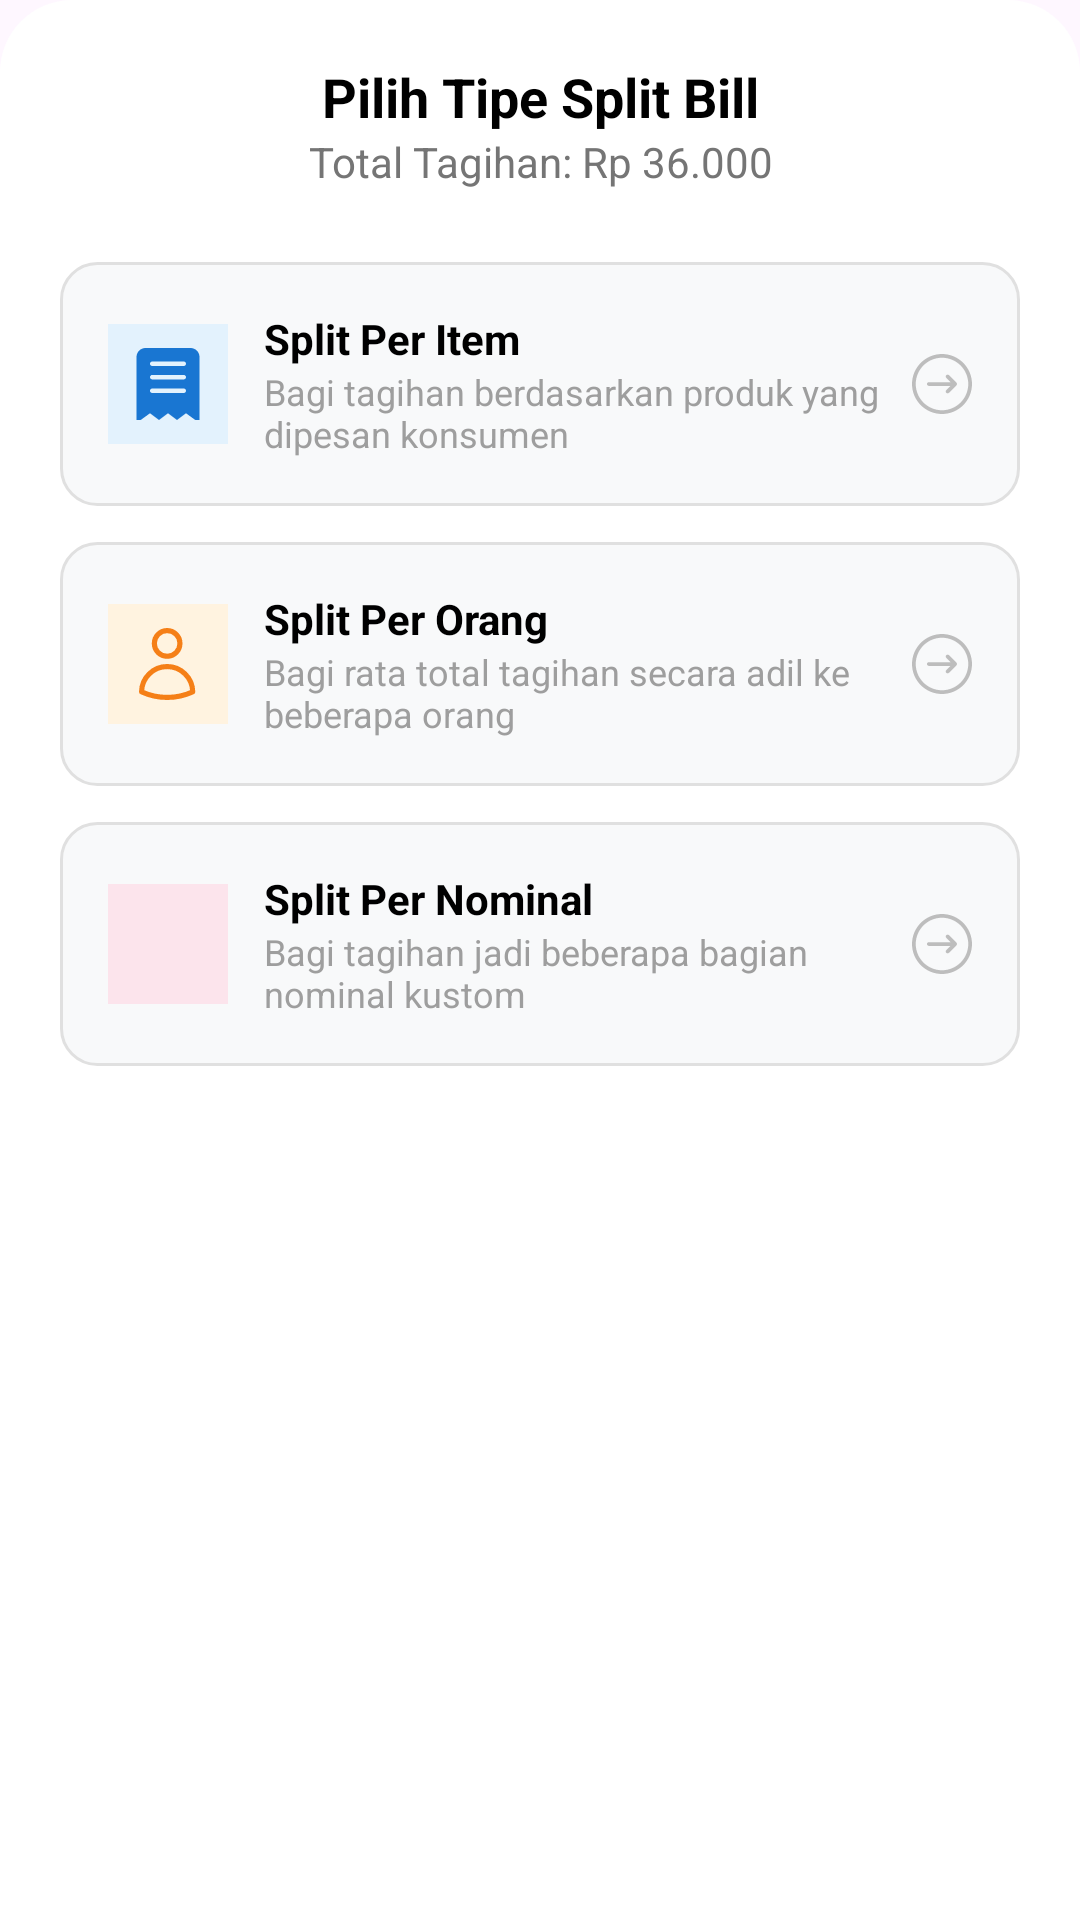

Where icons sit on this 1080 x 1920 app screen, as bbox=(x1, y1, x2, y2):
receipt: bbox=(136, 348, 200, 420)
right: bbox=(912, 354, 972, 414), bbox=(912, 634, 972, 694), bbox=(912, 914, 972, 974)
user: bbox=(108, 604, 228, 724)
